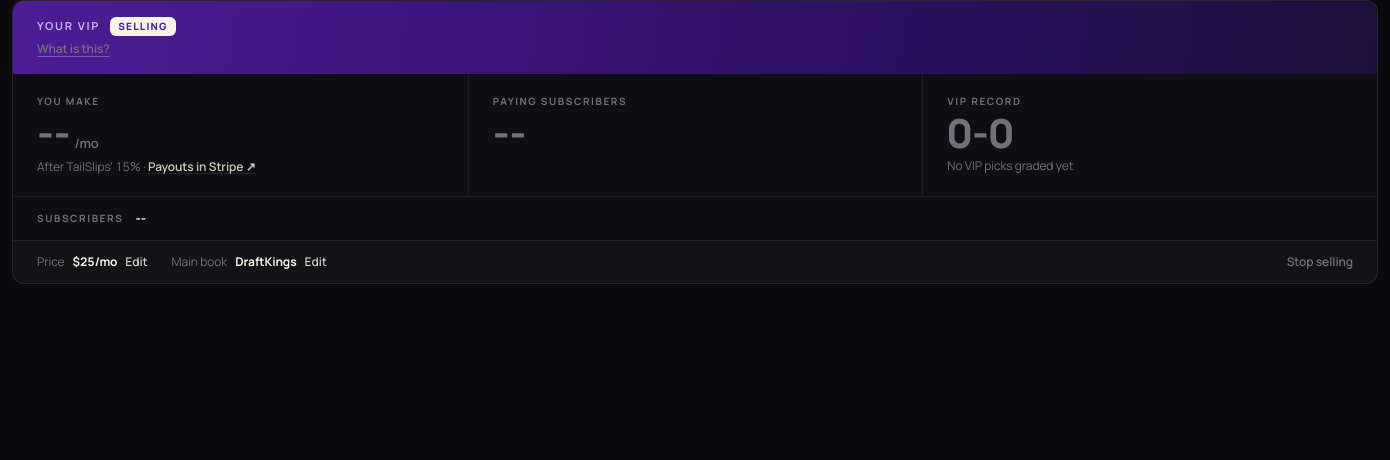
Test: SellerStrip › stop_incomplete shows retry copy and keeps the panel usable
Click the button "Stop selling". click: x=1320, y=262
box: left=1287, top=253, right=1353, bottom=271
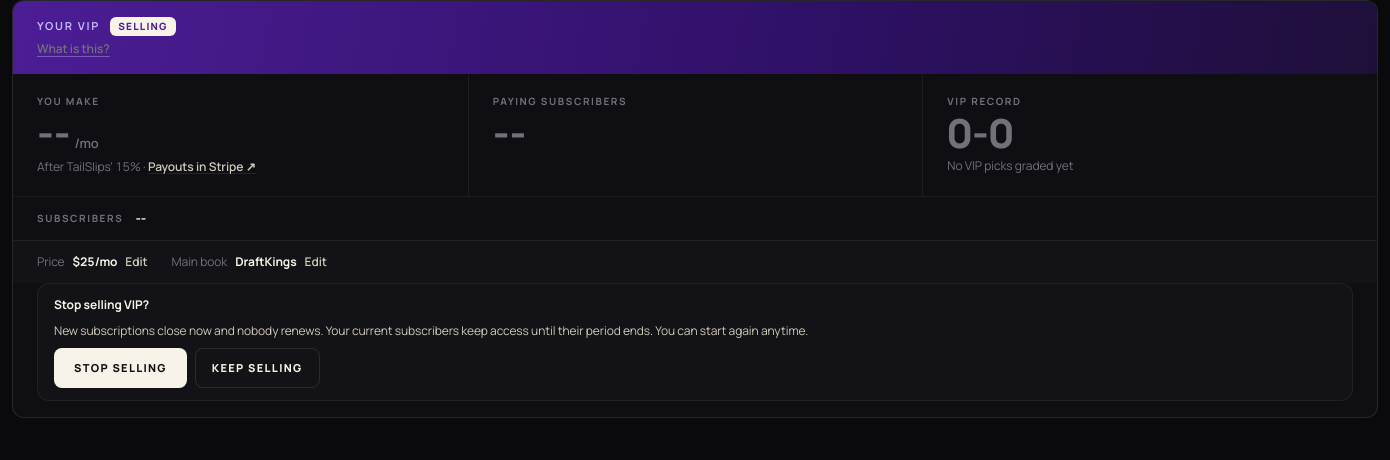
Click the button "Stop selling". click: x=120, y=368
box: left=54, top=348, right=187, bottom=388
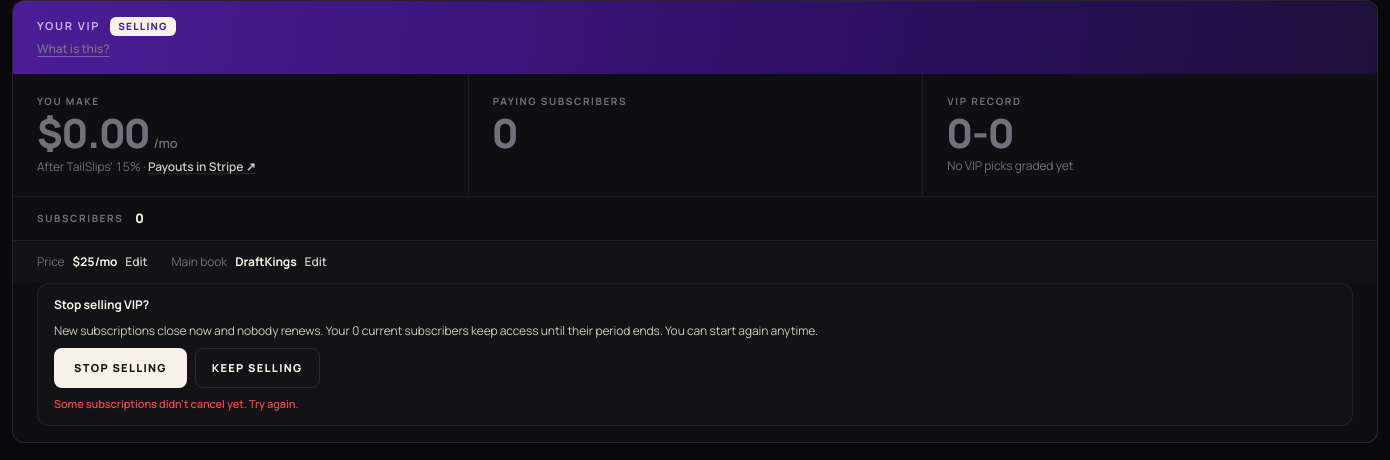
Check: the text "Stop selling VIP?" is shown, box left=54, top=296, right=149, bottom=313
Check: the button "Stop selling" is enabled, box left=54, top=348, right=187, bottom=388
Check: the text "Some subscriptions didn't cancel yet. Try again." is shown, box left=54, top=396, right=299, bottom=411
